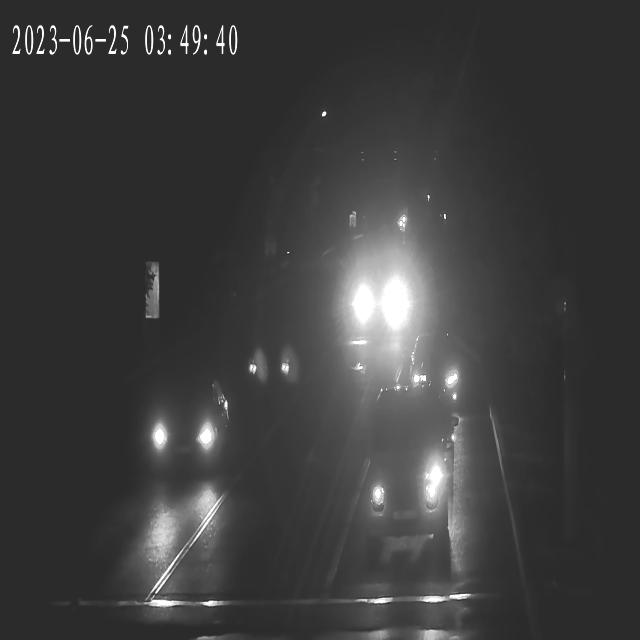Car: (136, 379, 232, 476), (358, 439, 455, 533), (344, 258, 417, 334), (402, 342, 468, 409), (244, 336, 300, 400)
